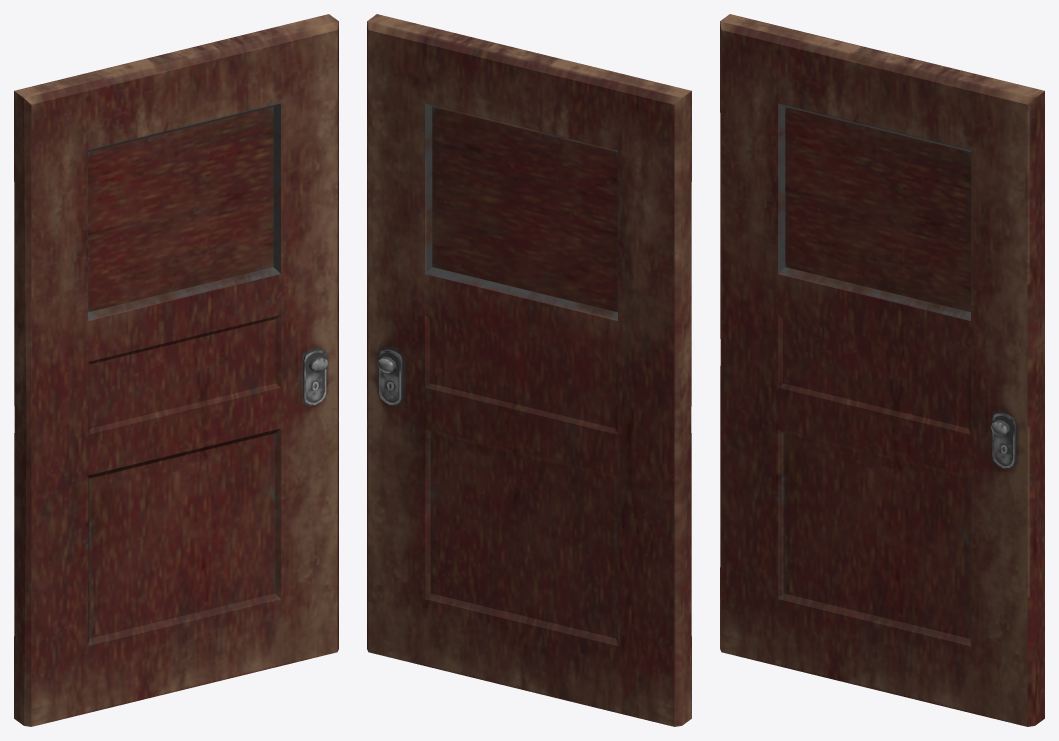
Rendered from Door House1.fbx.
3 views of the same model, side by side, from view 1: azimuth 30°, elevation 25°; view 2: azimuth 150°, elevation 25°; view 3: azimuth 330°, elevation 25° (orthographic).
Visible parts, largest first — view 1: Porta 1; view 2: Porta 1; view 3: Porta 1.
Boxes of the visible parts, x1=… form: Porta 1: x1=14, y1=14, x2=338, y2=726; Porta 1: x1=367, y1=14, x2=691, y2=726; Porta 1: x1=720, y1=14, x2=1044, y2=726.
Bounding box in the file's own units: 104 × 197 × 17.19.
